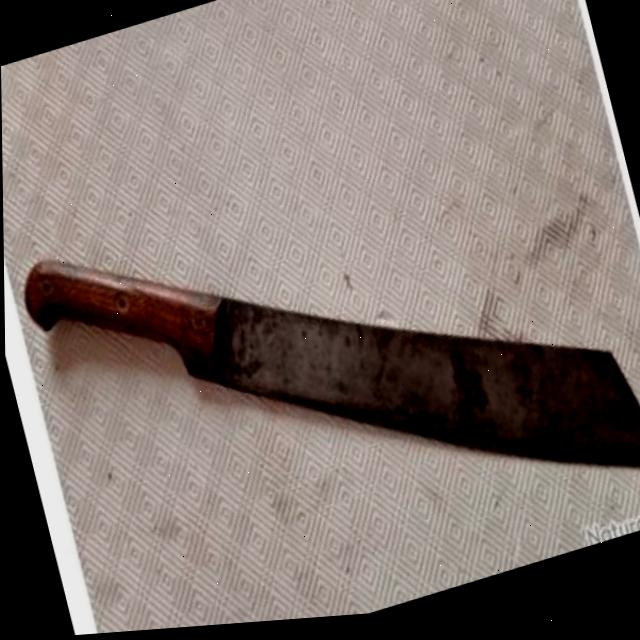long knife: (16, 77, 640, 639)
